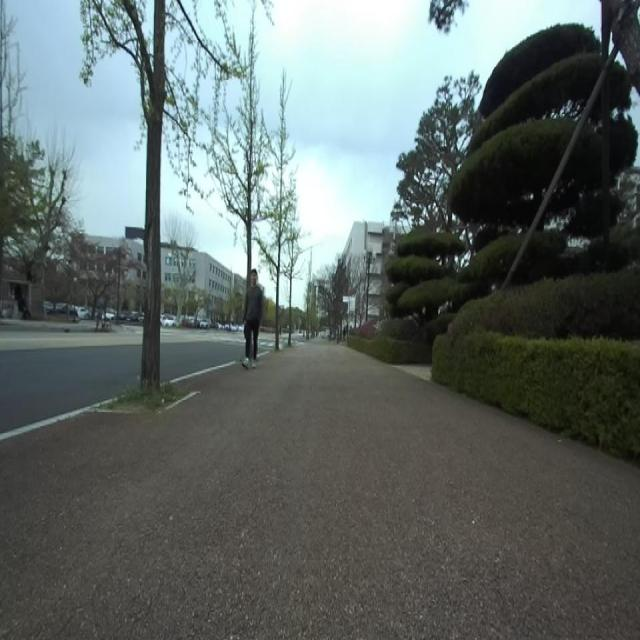sidewalk: (0, 340, 640, 639), (0, 399, 112, 441), (169, 361, 236, 382)
